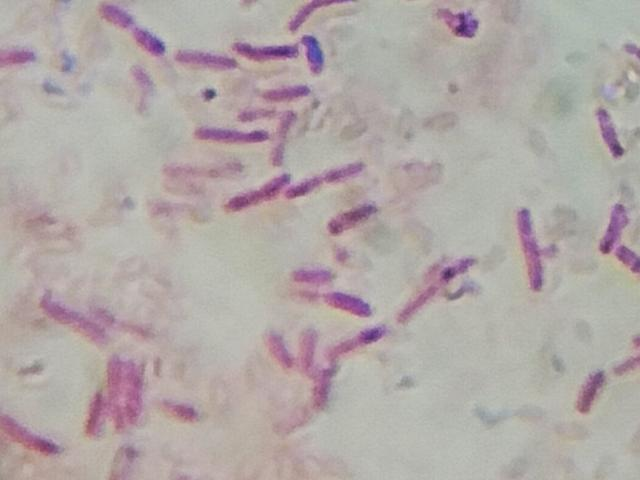E. coli: (402, 249, 474, 322), (48, 293, 124, 342), (102, 5, 166, 51), (335, 329, 394, 376), (289, 162, 369, 193), (2, 409, 52, 457), (519, 207, 549, 286), (228, 176, 287, 216), (323, 197, 383, 235), (575, 360, 606, 416), (125, 359, 148, 434), (196, 120, 264, 145), (103, 357, 126, 430), (176, 45, 235, 73), (231, 33, 291, 58), (596, 102, 623, 157), (321, 287, 368, 318), (295, 325, 321, 379), (89, 387, 118, 435), (271, 107, 293, 167), (1, 37, 42, 69), (287, 0, 334, 27), (258, 329, 286, 371), (601, 199, 624, 250), (259, 77, 306, 101), (613, 240, 640, 278), (161, 397, 203, 419)
